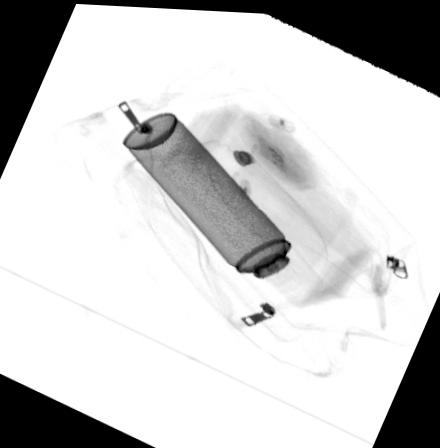Sprayer: (121, 108, 325, 312)
